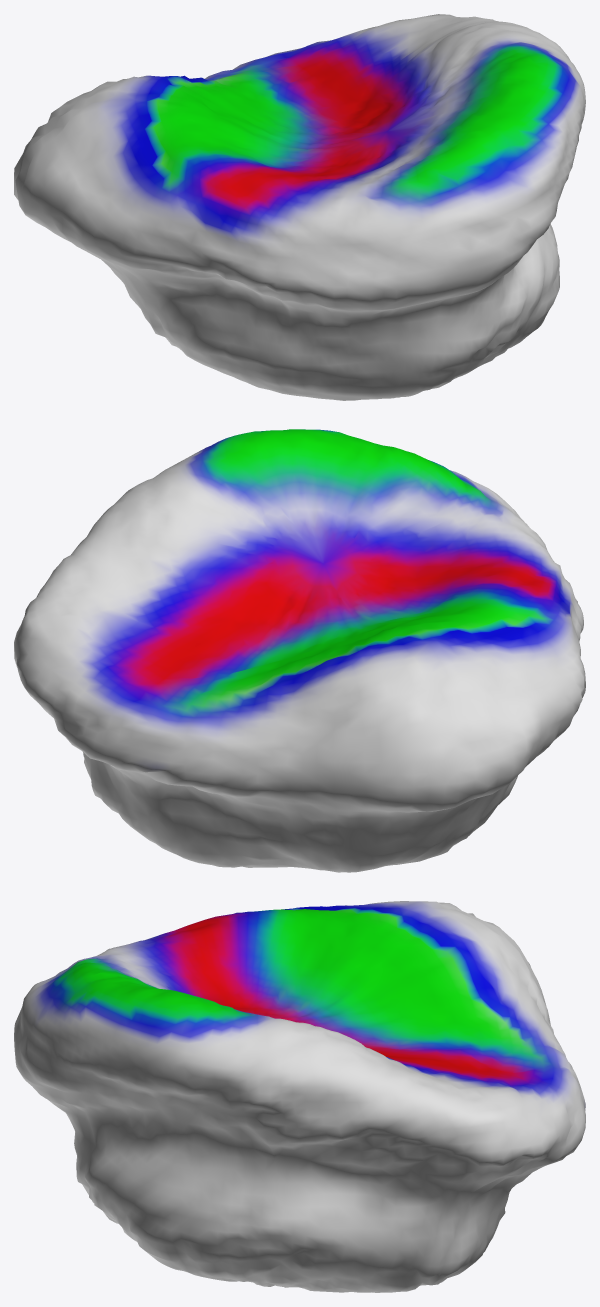
File: Floating Island A.fbx
3 views of the same model, one above another, from view 1: azimuth 30°, elevation 25°; view 2: azimuth 150°, elevation 25°; view 3: azimuth 270°, elevation 25° (orthographic). The views are drawn at different scales.
Parts seen in each view (by area): view 1: Sphere; view 2: Sphere; view 3: Sphere.
Boxes of the visible parts, x1,y1,x2,y2 form: Sphere: (14, 14, 585, 400); Sphere: (14, 429, 585, 872); Sphere: (14, 901, 585, 1292).
Bounding box in the file's own units: 198 × 125 × 202.
